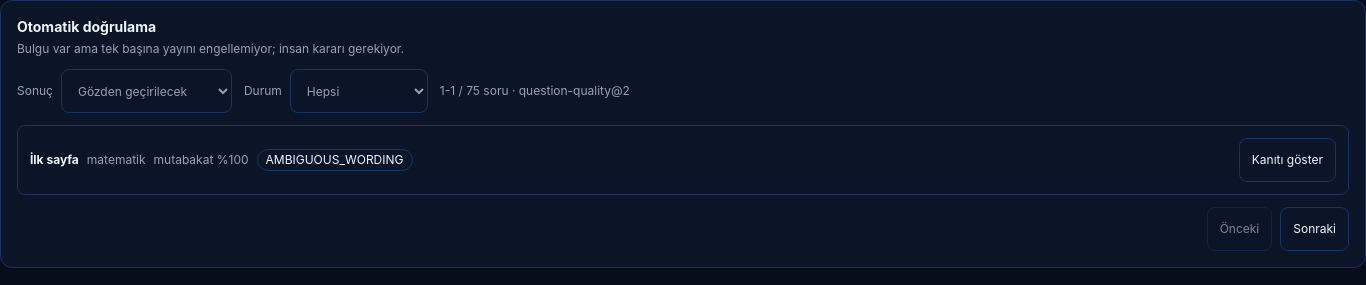
Test: ValidationVerdictPanel › 50 kayittan sonraki otomatik karar sayfasina ulasir
Expected: the text "İlk sayfa" is shown, x1=30 y1=152 x2=79 y2=168
Expected: the text "1-1 / 75 soru · question-quality@2" is shown, x1=440 y1=83 x2=630 y2=99
Click the button "Sonraki" at (1315, 229), box x1=1280 y1=207 x2=1349 y2=251
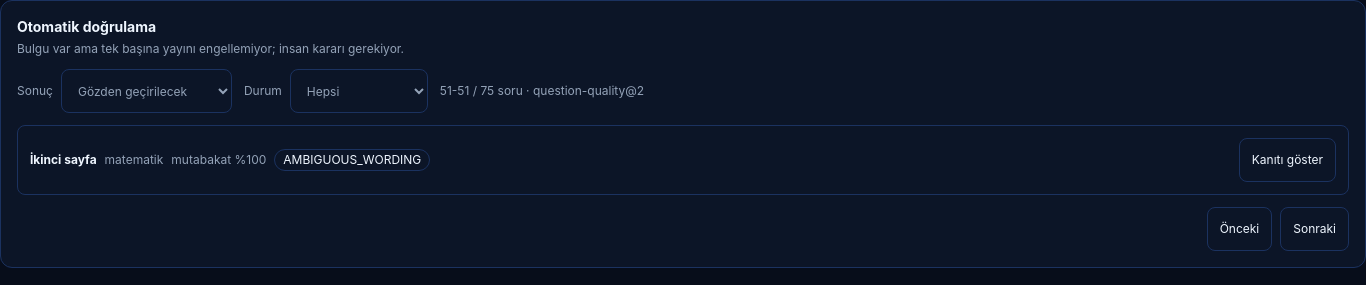
Result: the text "İkinci sayfa" is shown at x1=30 y1=152 x2=97 y2=168
Result: the text "51-51 / 75 soru · question-quality@2" is shown at x1=440 y1=83 x2=644 y2=99
